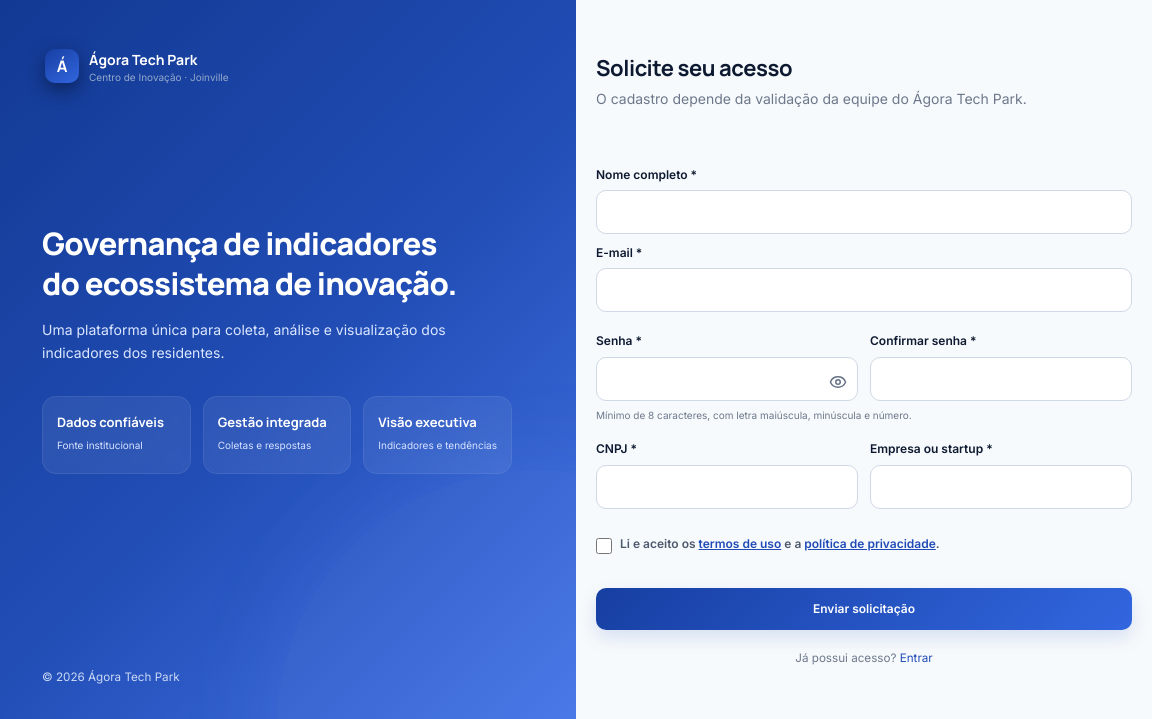
Scenario: páginas públicas de autenticação › valida cadastro, aceite e confirmação de senha
The width and height of the screenshot is (1152, 719).
Type "Senha123" into the password field labelled "Senha *".
click(727, 379); type("Senha123")  # box [596, 357, 858, 401]
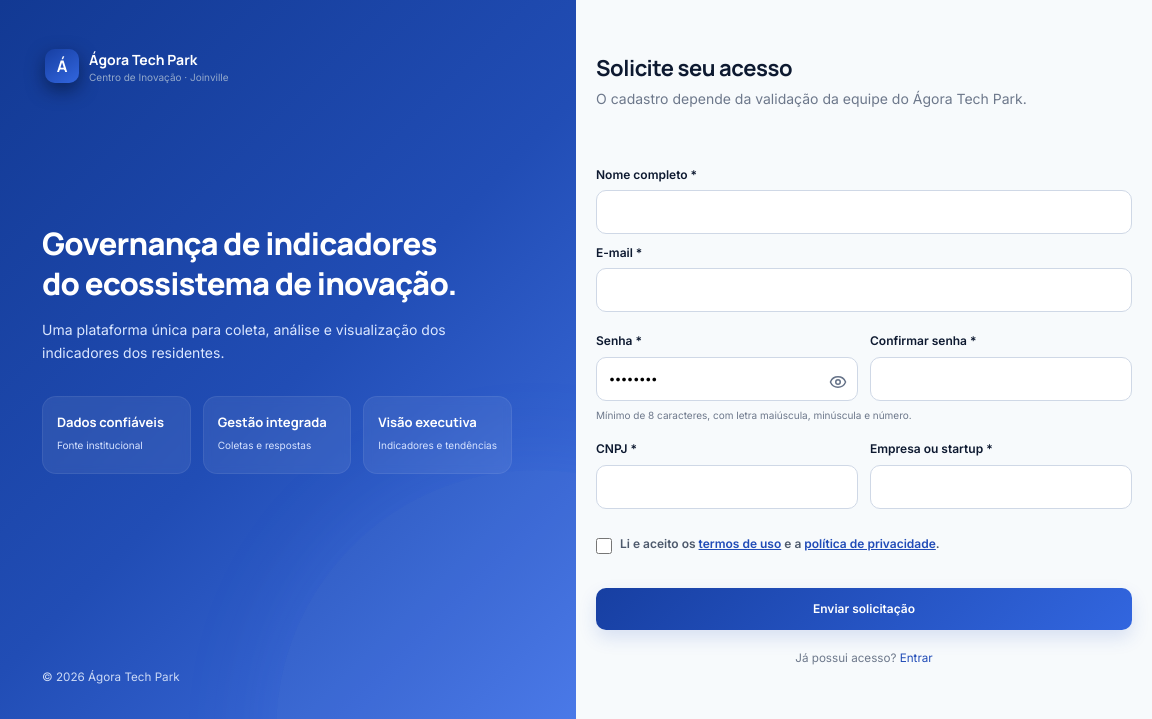
Type "Outra123" into the password field labelled "Confirmar senha *".
click(1001, 379); type("Outra123")  # box [870, 357, 1132, 401]
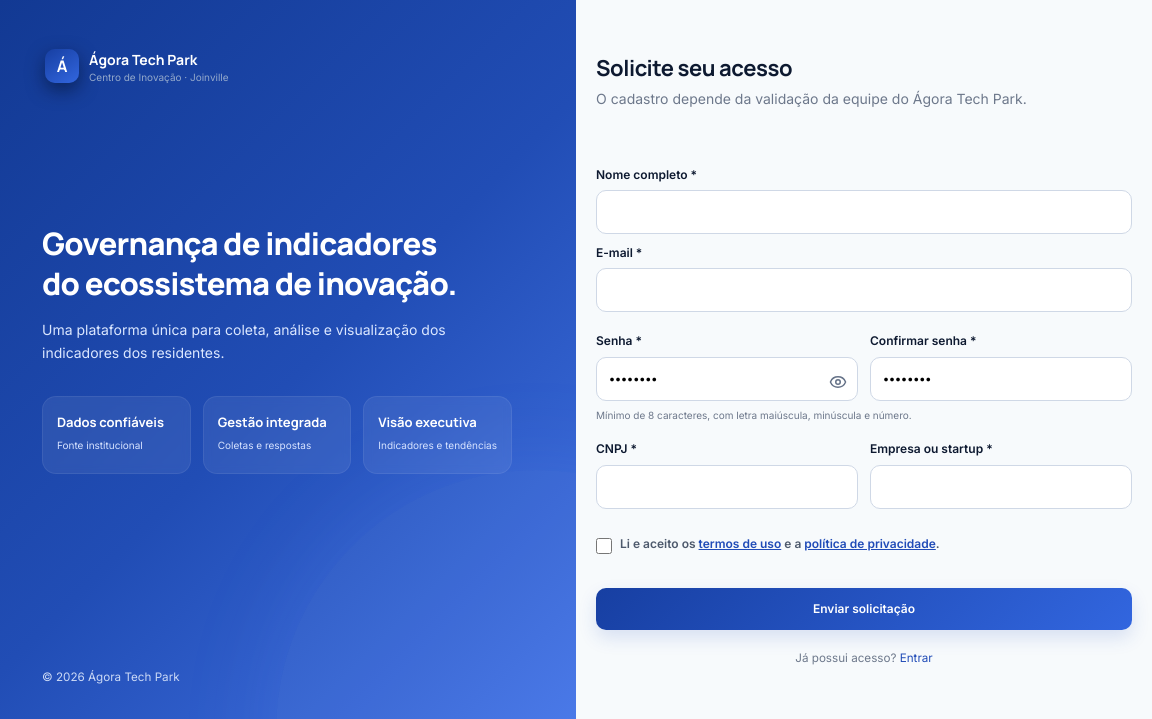
Click the button "Enviar solicitação".
click(864, 609)  # box [596, 588, 1132, 630]
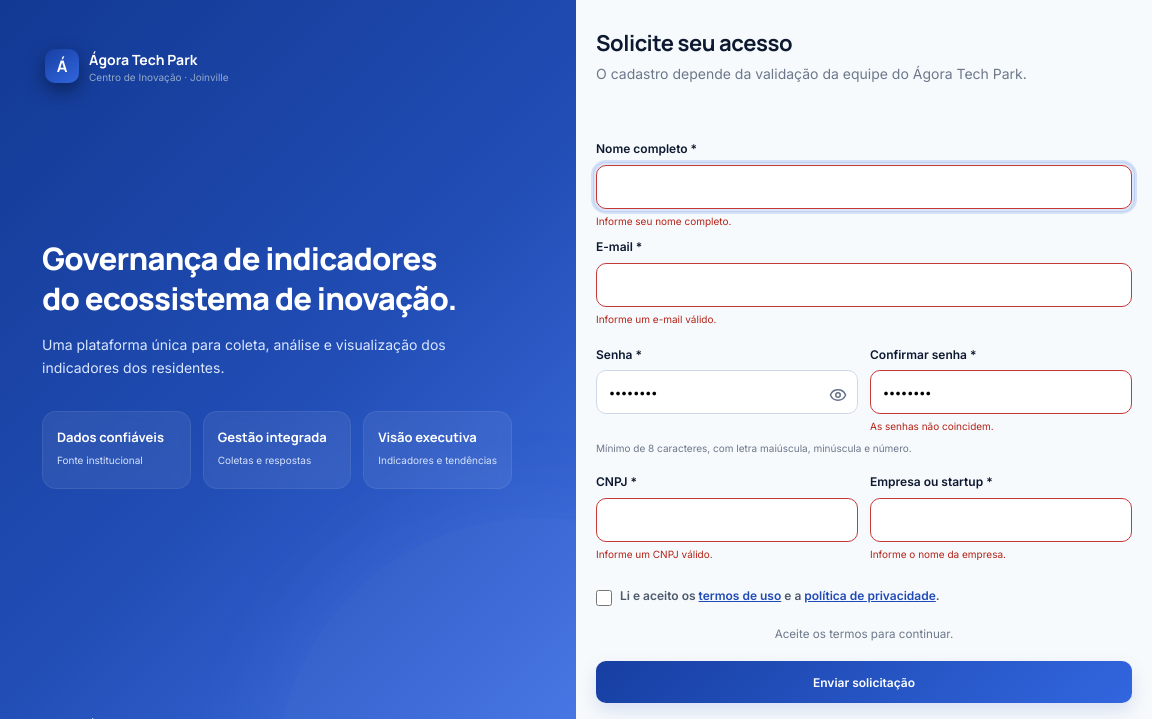
Now the text "As senhas não coincidem." is shown, box [870, 420, 994, 432]
Now the text "Aceite os termos para continuar." is shown, box [775, 627, 953, 641]
